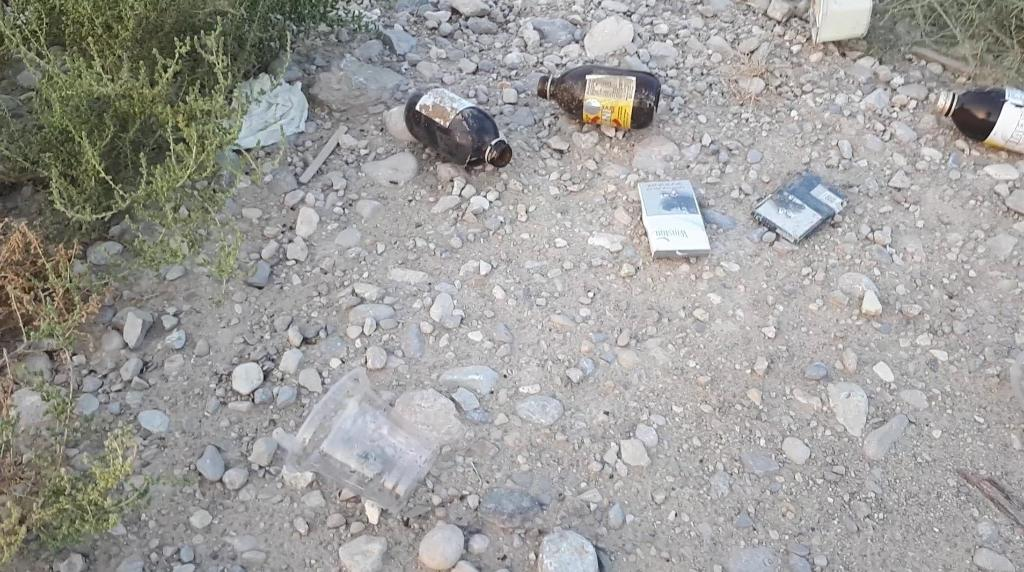garbage: (393, 73, 521, 186), (534, 62, 676, 140), (929, 69, 1024, 169), (404, 85, 513, 167), (631, 170, 722, 267), (754, 166, 857, 250), (537, 65, 661, 129), (932, 85, 1023, 153)
